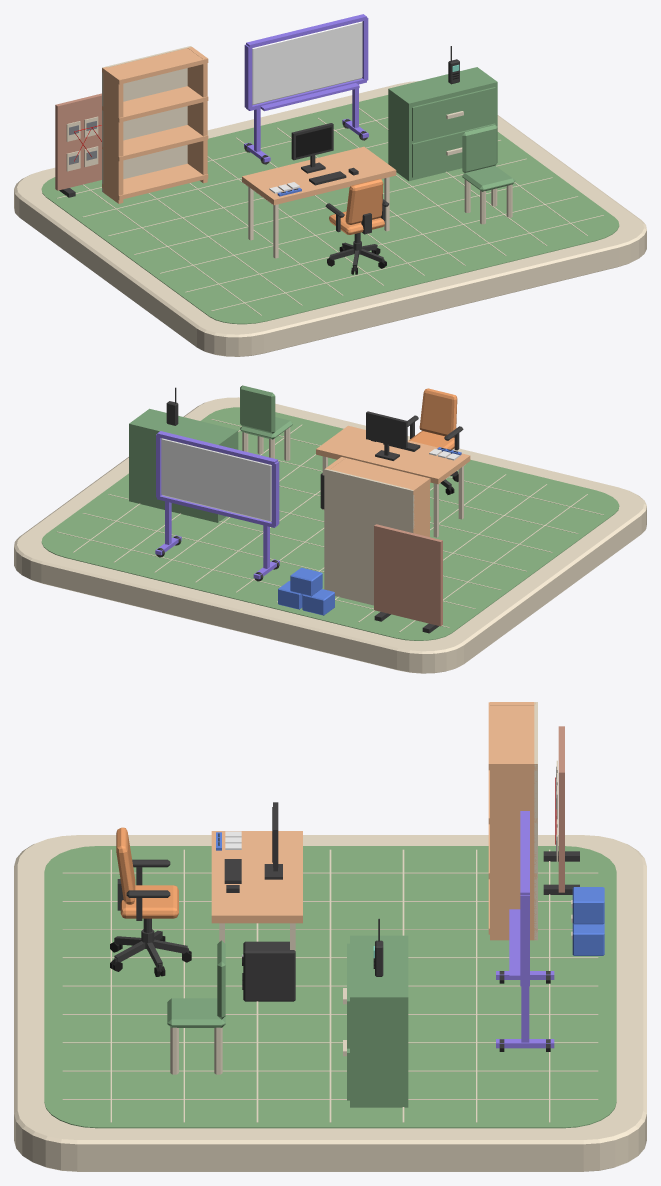
The model's file is room.fbx.
The picture shows the model from 3 angles, top to bottom: view 1: azimuth 30°, elevation 25°; view 2: azimuth 150°, elevation 25°; view 3: azimuth 270°, elevation 25°; orthographic projection. The views are drawn at different scales.
Visible parts, largest first — view 1: COM-02 Floor Surface, COM-01 Rounded Base Direct, Cabinet, Writing surface, Top, Back, Panel, COM-04_Chair_blender_direct, Side, Side.001, Shelf.003, Shelf.002 (+9 smaller); view 2: COM-02 Floor Surface, COM-01 Rounded Base Direct, Back, Writing surface, Panel, Cabinet, Top, COM-04_Chair_blender_direct, Backrest, Frame, Shelf.003, Frame rail.001 (+7 smaller); view 3: COM-02 Floor Surface, COM-01 Rounded Base Direct, Cabinet, Top, Side.001, COM-04_Chair_blender_direct, Tower, Shelf.003, Seat, Stacked case.002, Panel, Stacked case.001 (+12 smaller).
Boxes of the visible parts, box(x1,y1,x2,y2) form: COM-02 Floor Surface: box(41, 95, 619, 324); COM-01 Rounded Base Direct: box(14, 81, 646, 356); Cabinet: box(388, 67, 497, 180); Writing surface: box(252, 21, 362, 105); Top: box(242, 146, 396, 258); Back: box(102, 46, 191, 192); Panel: box(55, 93, 101, 190); COM-04_Chair_blender_direct: box(325, 179, 388, 274); Side: box(103, 67, 123, 203); Side.001: box(187, 47, 207, 183); Shelf.003: box(102, 48, 208, 84); Shelf.002: box(102, 86, 208, 122); COM-02 Floor Surface: box(41, 407, 619, 640); COM-01 Rounded Base Direct: box(14, 397, 646, 673); Back: box(324, 469, 414, 605); Writing surface: box(161, 438, 271, 521); Panel: box(374, 524, 442, 626); Cabinet: box(129, 408, 238, 522); Top: box(316, 425, 470, 537); COM-04_Chair_blender_direct: box(407, 388, 463, 494); Backrest: box(240, 385, 275, 433); Frame: box(366, 411, 407, 460); Shelf.003: box(330, 457, 430, 494); Frame rail.001: box(157, 431, 277, 464); COM-02 Floor Surface: box(44, 846, 616, 1128); COM-01 Rounded Base Direct: box(14, 835, 646, 1171); Cabinet: box(343, 935, 408, 1107); Top: box(211, 831, 302, 950); Side.001: box(490, 760, 536, 940); COM-04_Chair_blender_direct: box(110, 827, 191, 976); Tower: box(243, 941, 295, 1001); Shelf.003: box(488, 702, 537, 770); Seat: box(167, 998, 225, 1027); Stacked case.002: box(572, 887, 604, 924); Panel: box(558, 726, 564, 892); Stacked case.001: box(572, 923, 604, 955).
Bounding box in the file's own units: 600 × 190 × 520.
